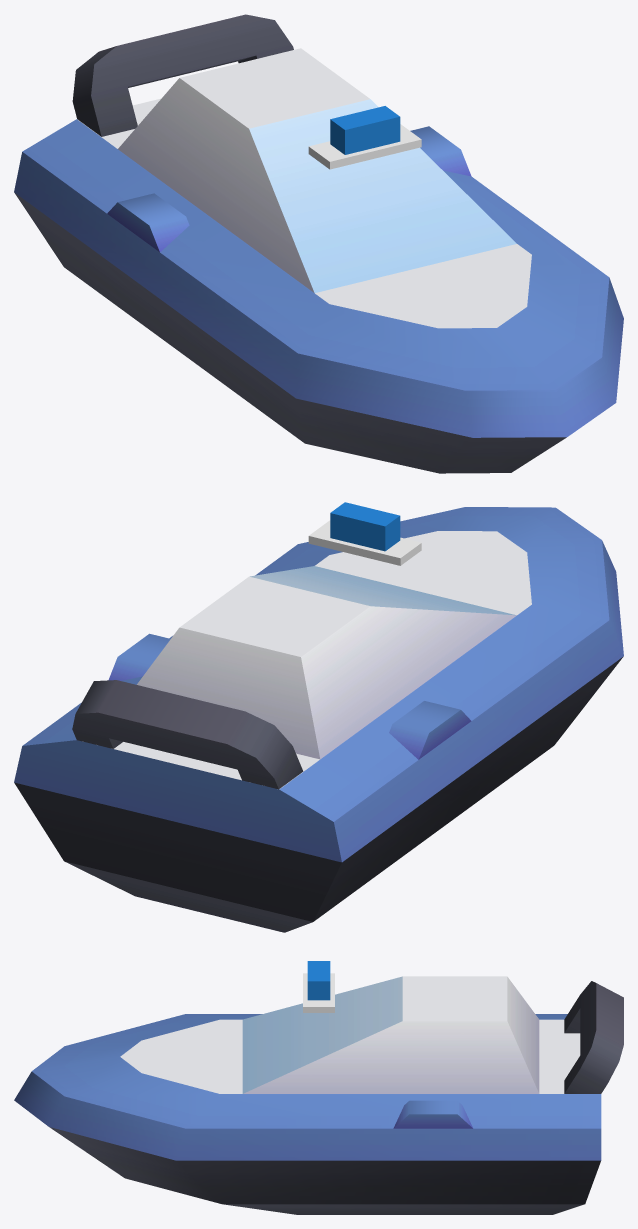
Rendered from polisbat.glb.
The picture shows the model from 3 angles, top to bottom: view 1: azimuth 30°, elevation 25°; view 2: azimuth 150°, elevation 25°; view 3: azimuth 270°, elevation 25°; orthographic projection. The views are drawn at different scales.
Parts seen in each view (by area): view 1: boat-speed-g, till-polisbat; view 2: boat-speed-g, till-polisbat; view 3: boat-speed-g, till-polisbat.
Part boxes in pixels (left/top/right/bottom): boat-speed-g: left=14, top=14, right=623, bottom=473; till-polisbat: left=308, top=106, right=421, bottom=169; boat-speed-g: left=14, top=507, right=623, bottom=932; till-polisbat: left=308, top=502, right=421, bottom=565; boat-speed-g: left=14, top=976, right=623, bottom=1214; till-polisbat: left=303, top=961, right=334, bottom=1012.
Bounding box in the file's own units: 1.78 × 1.49 × 3.81.
Materials: 3 (1 with a texture image).
